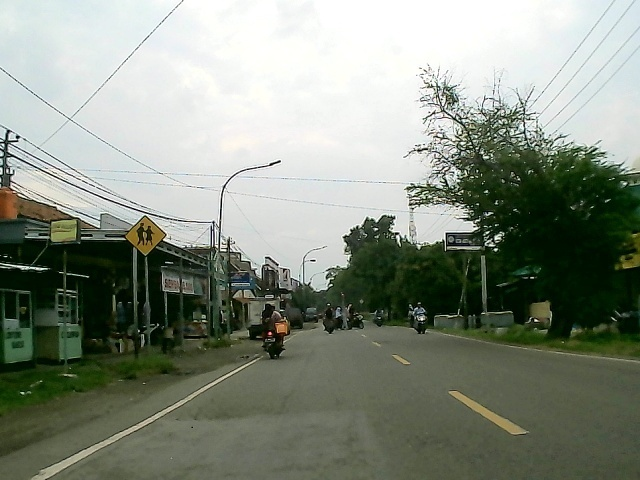Peringatan anak menyeberang: (124, 214, 168, 258)
